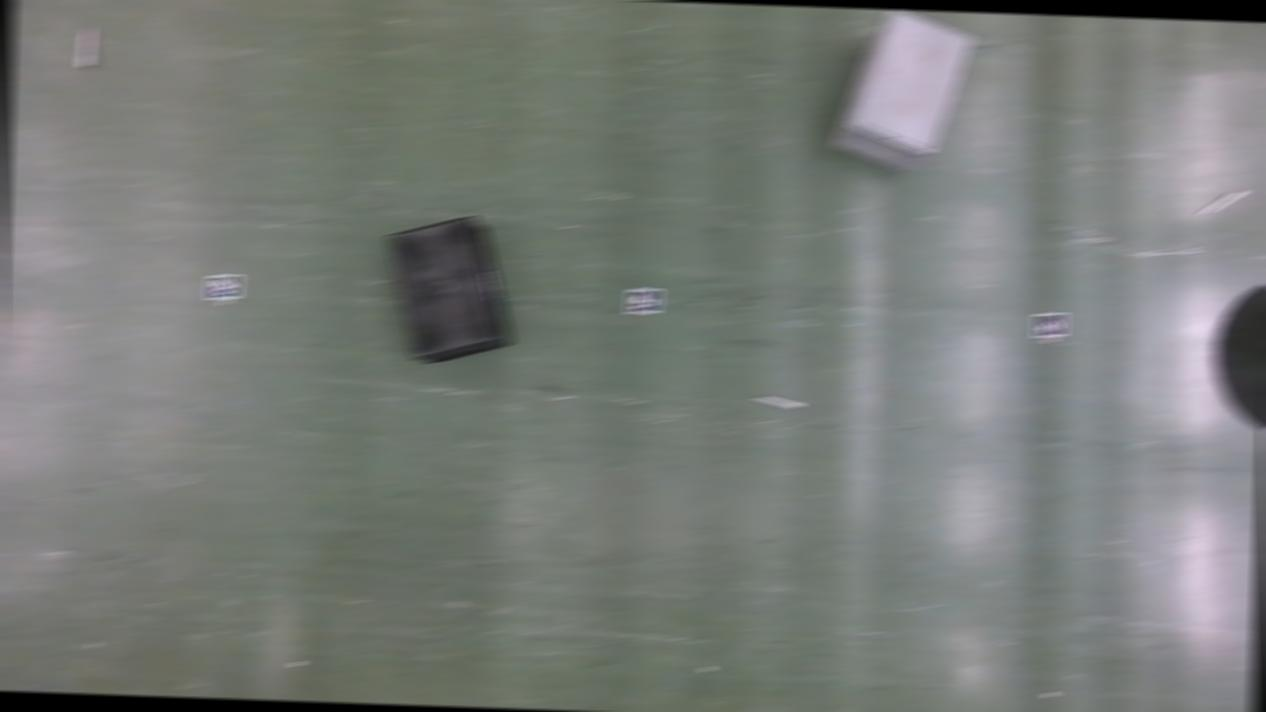probes: (1200, 189, 1245, 220), (80, 27, 95, 66), (758, 396, 800, 409)
rako: (829, 8, 974, 176), (382, 214, 518, 368)
